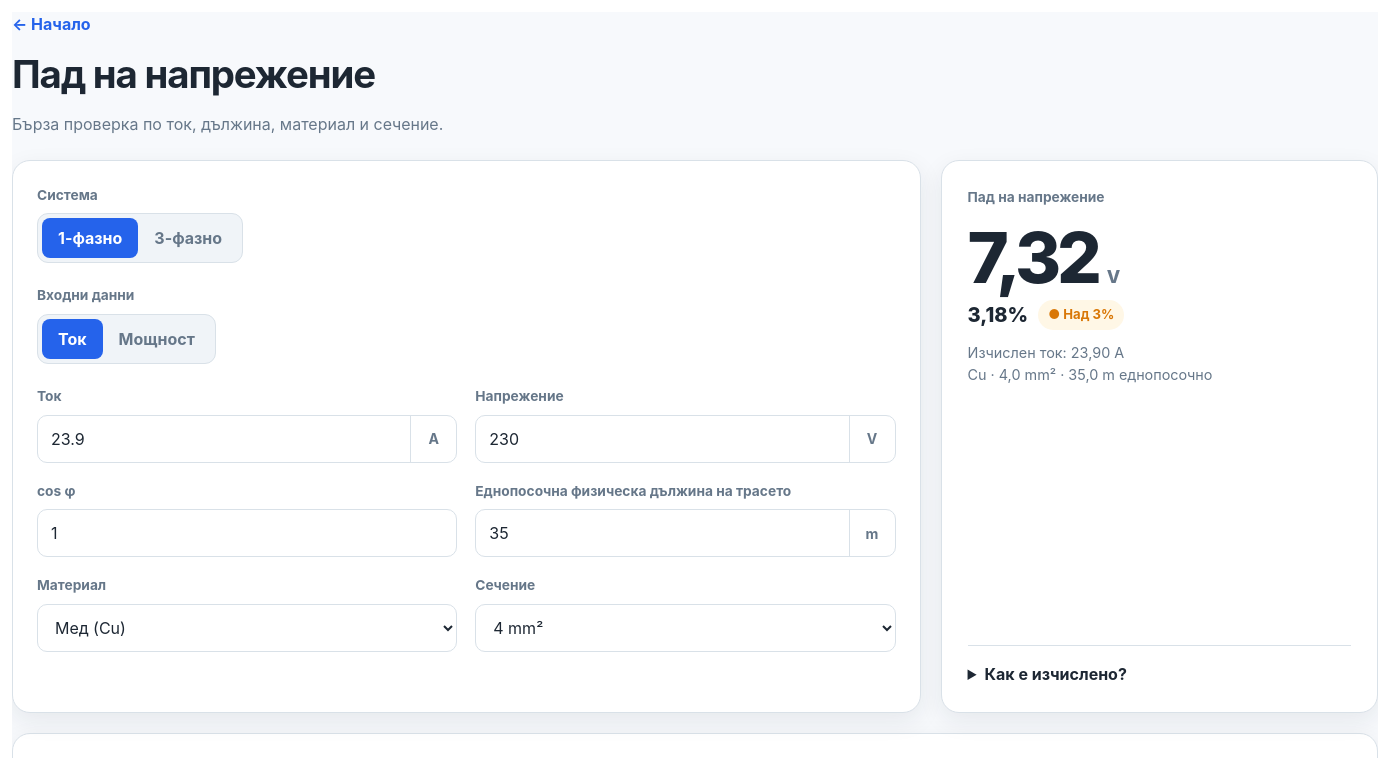
it: VoltageDropCalculator › switches declaratively between Current and Power inputs
Expected: the field with id "drop-current" is shown, 38,416 -> 410,462
Click the button "Мощност". click: (157, 339)
box: 103,319 -> 211,359
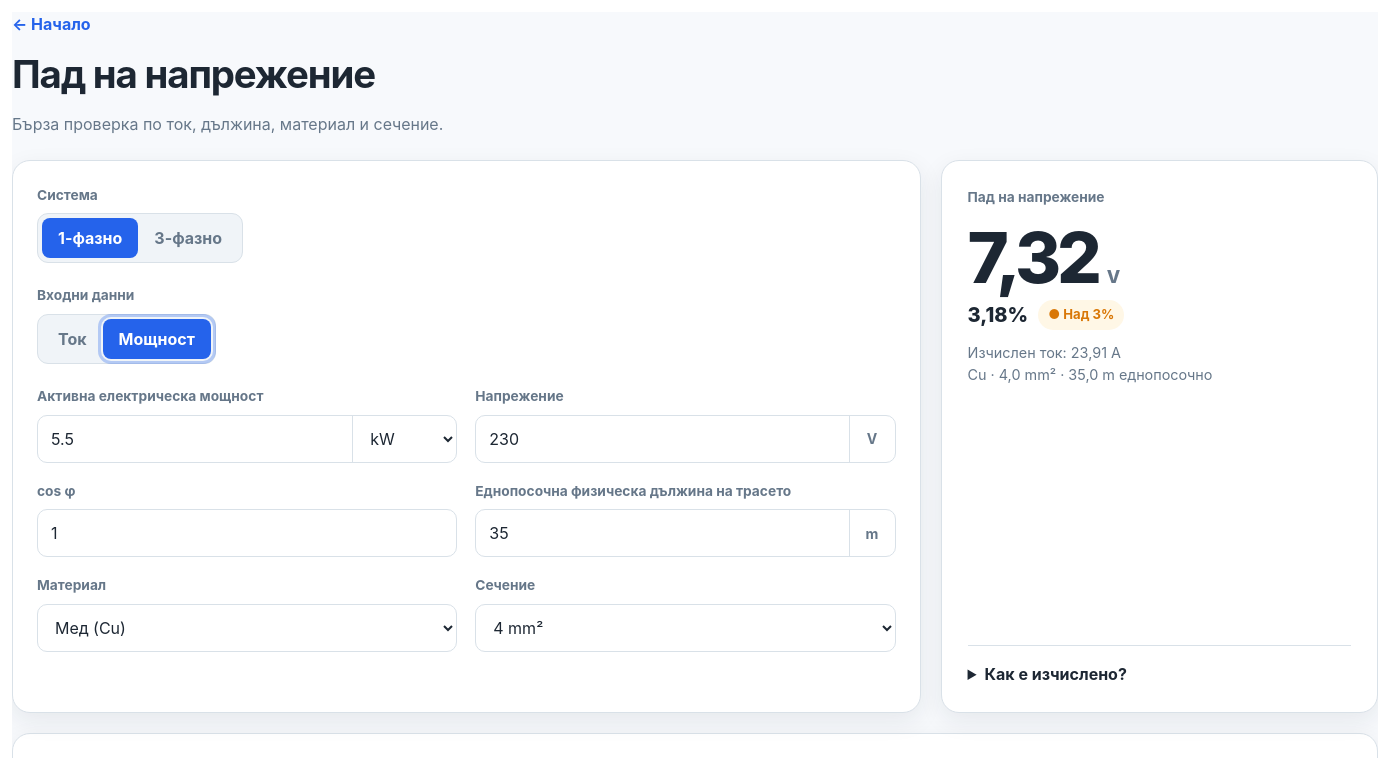
Expected: the field with id "drop-current" is gone
Expected: the field with id "drop-power" is shown, 38,416 -> 352,462
